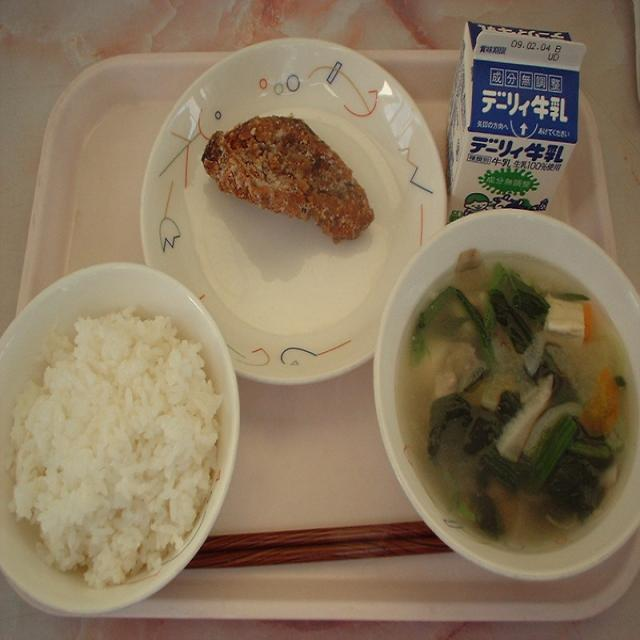Rice: (0, 264, 237, 622)
